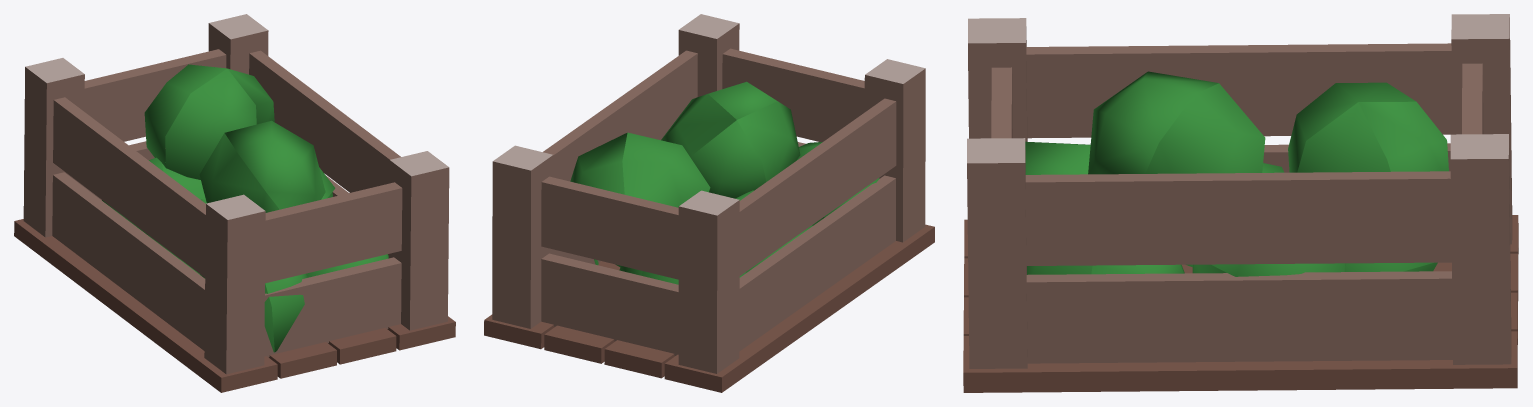
File: case_003.glb
3 renders of one model, left to right at view 1: azimuth 30°, elevation 25°; view 2: azimuth 150°, elevation 25°; view 3: azimuth 270°, elevation 25°, orthographic. The views are drawn at different scales.
Visible parts, largest first — view 1: case_003; view 2: case_003; view 3: case_003.
Boxes of the visible parts, bbox=[...] form: case_003: bbox=[14, 14, 455, 392]; case_003: bbox=[484, 14, 934, 392]; case_003: bbox=[963, 14, 1518, 392].
Size of the model in its own units: 0.6567 by 0.5223 by 1.01.
Materials: 1 (1 with a texture image).
